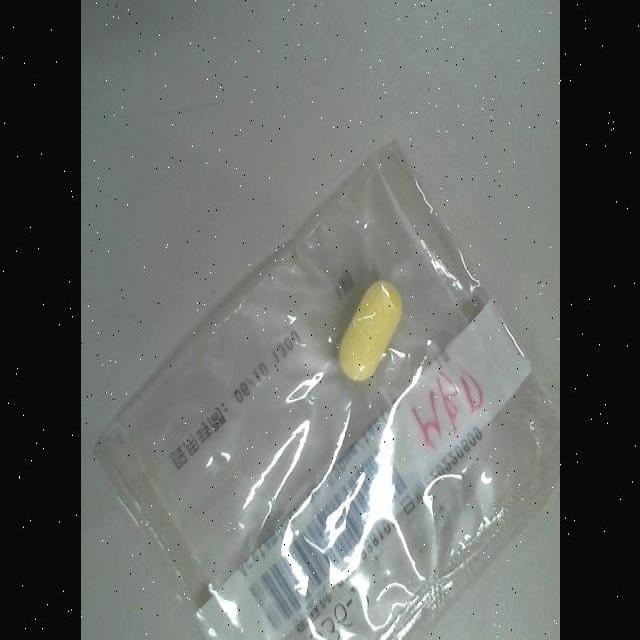pill: (340, 282, 400, 382)
